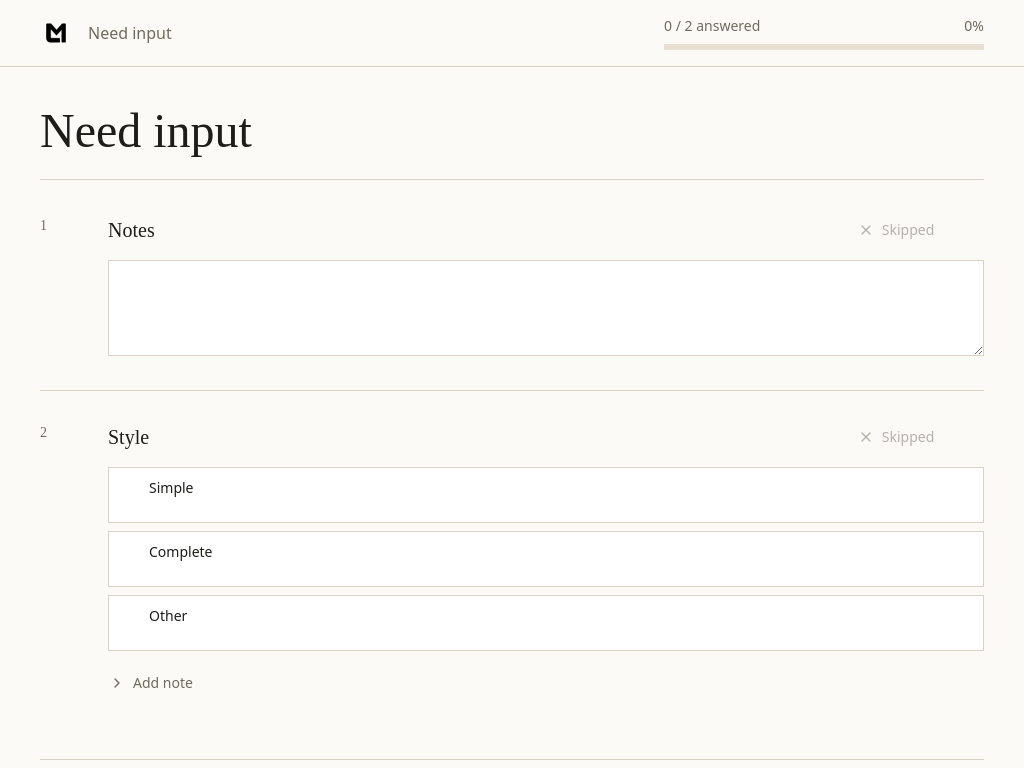
Loopmark UI › resets a changed field after confirmation
Type "Temporary edit" into the text box labelled "Notes" at coordinates (546, 308), box [108,260,984,356]
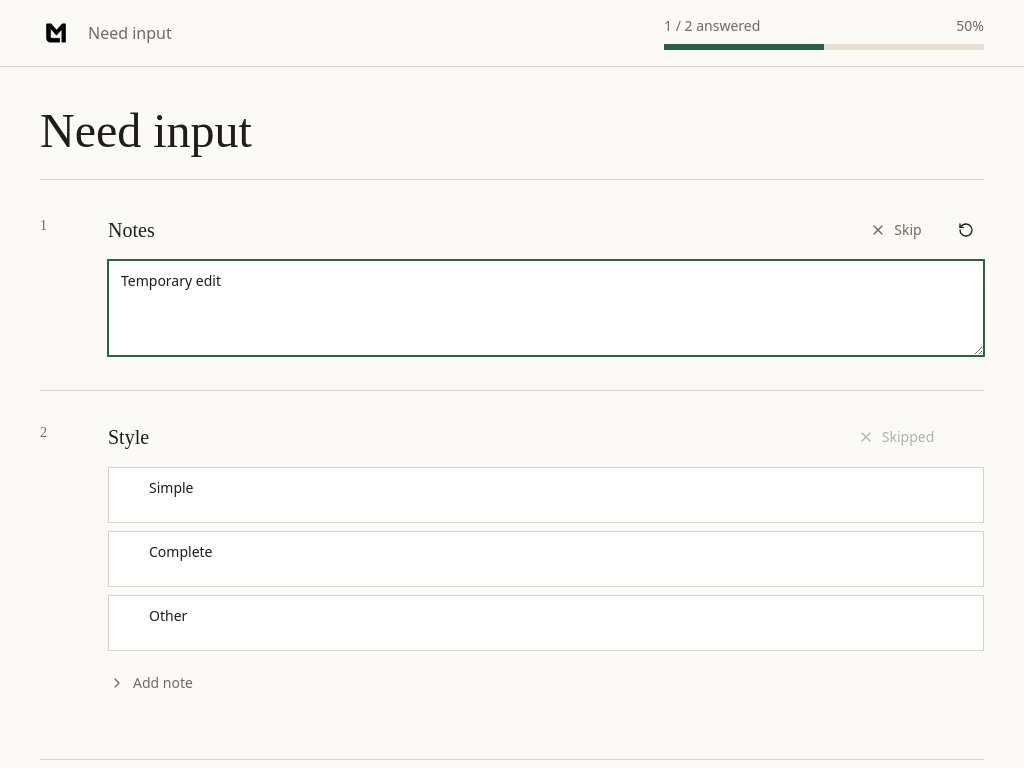
Click the button named "Reset Notes" at coordinates (966, 230), box [948,212,984,248]
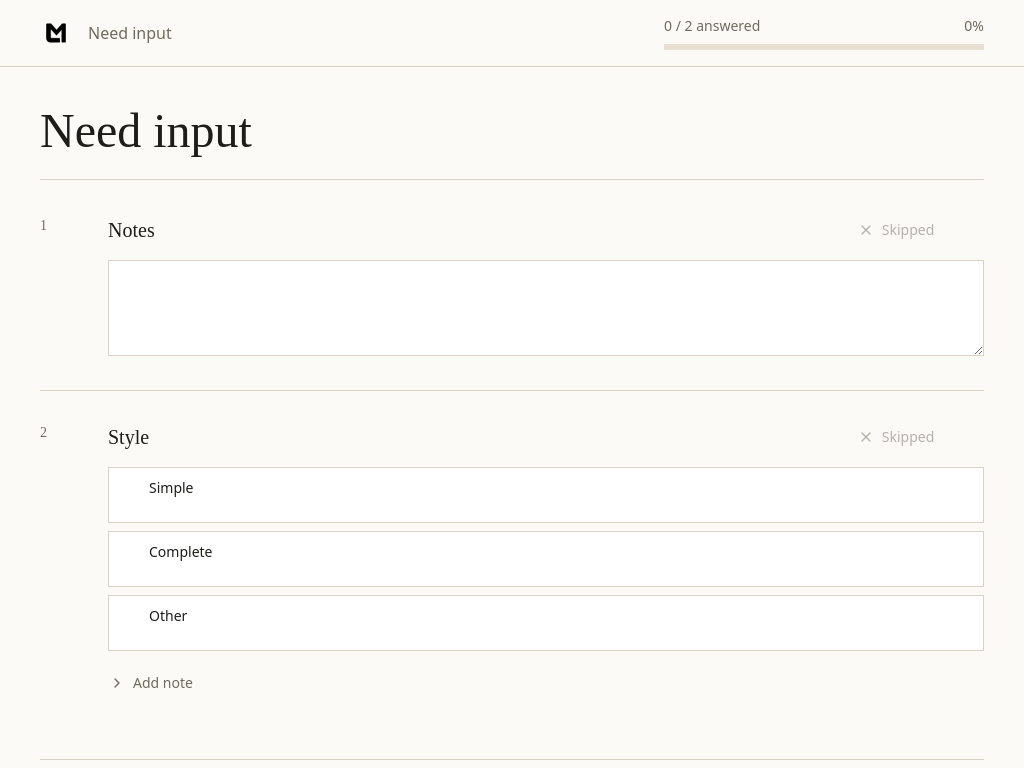
expect the text box labelled "Notes" is empty: met, box [108,260,984,356]
